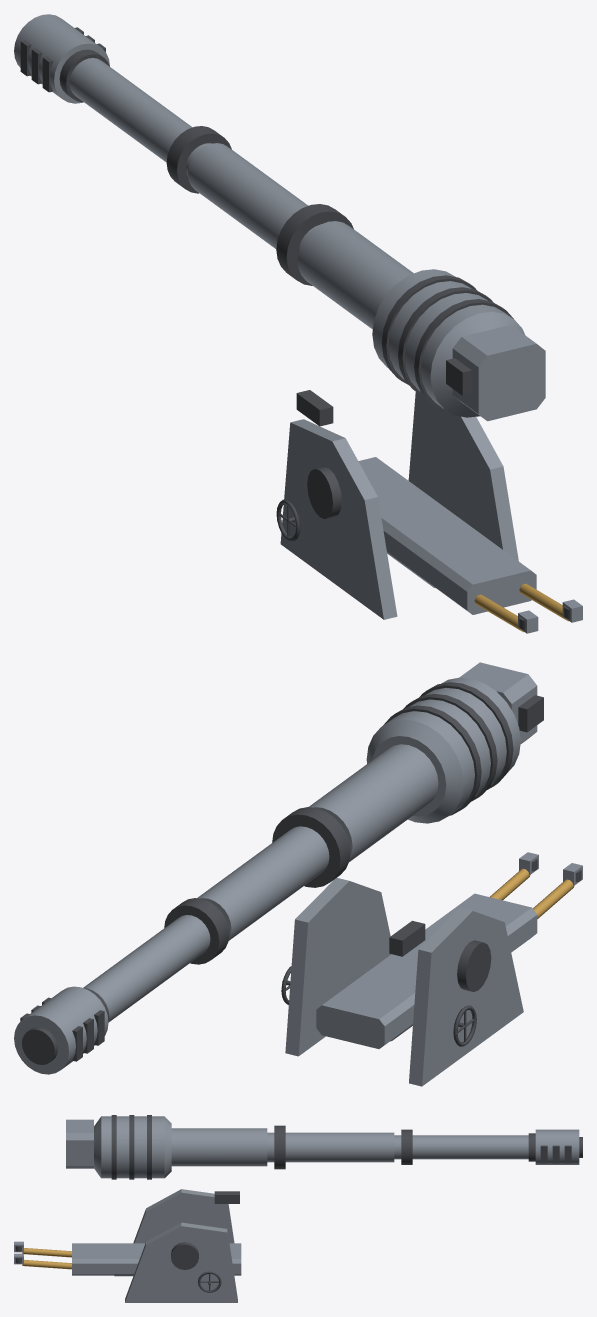
Rendered from longer_tom.obj.
3 views of the same model, one above another, from view 1: azimuth 30°, elevation 25°; view 2: azimuth 150°, elevation 25°; view 3: azimuth 270°, elevation 25° (orthographic). The views are drawn at different scales.
Parts seen in each view (by area): view 1: barrel_0, yaw_0, turret_0, barrel_1, yaw_1, turret_1, turret_2; view 2: barrel_0, yaw_0, barrel_1, turret_0, yaw_1, turret_2, turret_1; view 3: barrel_0, yaw_0, barrel_1, turret_0, yaw_1, turret_1, turret_2.
Boxes of the visible parts, x1=… form: barrel_0: x1=14, y1=14, x2=545, y2=421; yaw_0: x1=280, y1=392, x2=518, y2=619; turret_0: x1=358, y1=457, x2=582, y2=633; barrel_1: x1=20, y1=27, x2=513, y2=411; yaw_1: x1=276, y1=466, x2=341, y2=541; turret_1: x1=474, y1=583, x2=568, y2=632; turret_2: x1=296, y1=390, x2=569, y2=629; barrel_0: x1=14, y1=662, x2=537, y2=1074; yaw_0: x1=285, y1=878, x2=523, y2=1086; barrel_1: x1=20, y1=682, x2=543, y2=1064; turret_0: x1=316, y1=852, x2=582, y2=1048; yaw_1: x1=281, y1=940, x2=491, y2=1046; turret_2: x1=389, y1=858, x2=581, y2=956; turret_1: x1=490, y1=868, x2=574, y2=918; barrel_0: x1=66, y1=1116, x2=579, y2=1178; yaw_0: x1=125, y1=1189, x2=237, y2=1302; barrel_1: x1=111, y1=1115, x2=582, y2=1179; turret_0: x1=14, y1=1241, x2=241, y2=1276; yaw_1: x1=171, y1=1242, x2=221, y2=1292; turret_1: x1=22, y1=1248, x2=71, y2=1269; turret_2: x1=15, y1=1191, x2=239, y2=1263.
Bounding box in the file's own units: 1.67 × 2.62 × 8.05.
